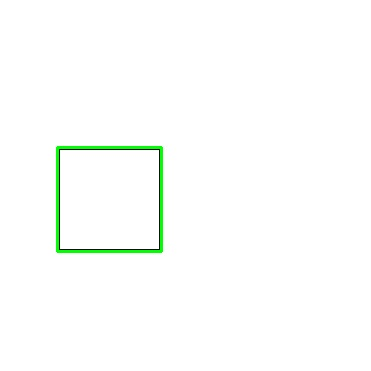line_segment: (56, 146, 163, 253)
